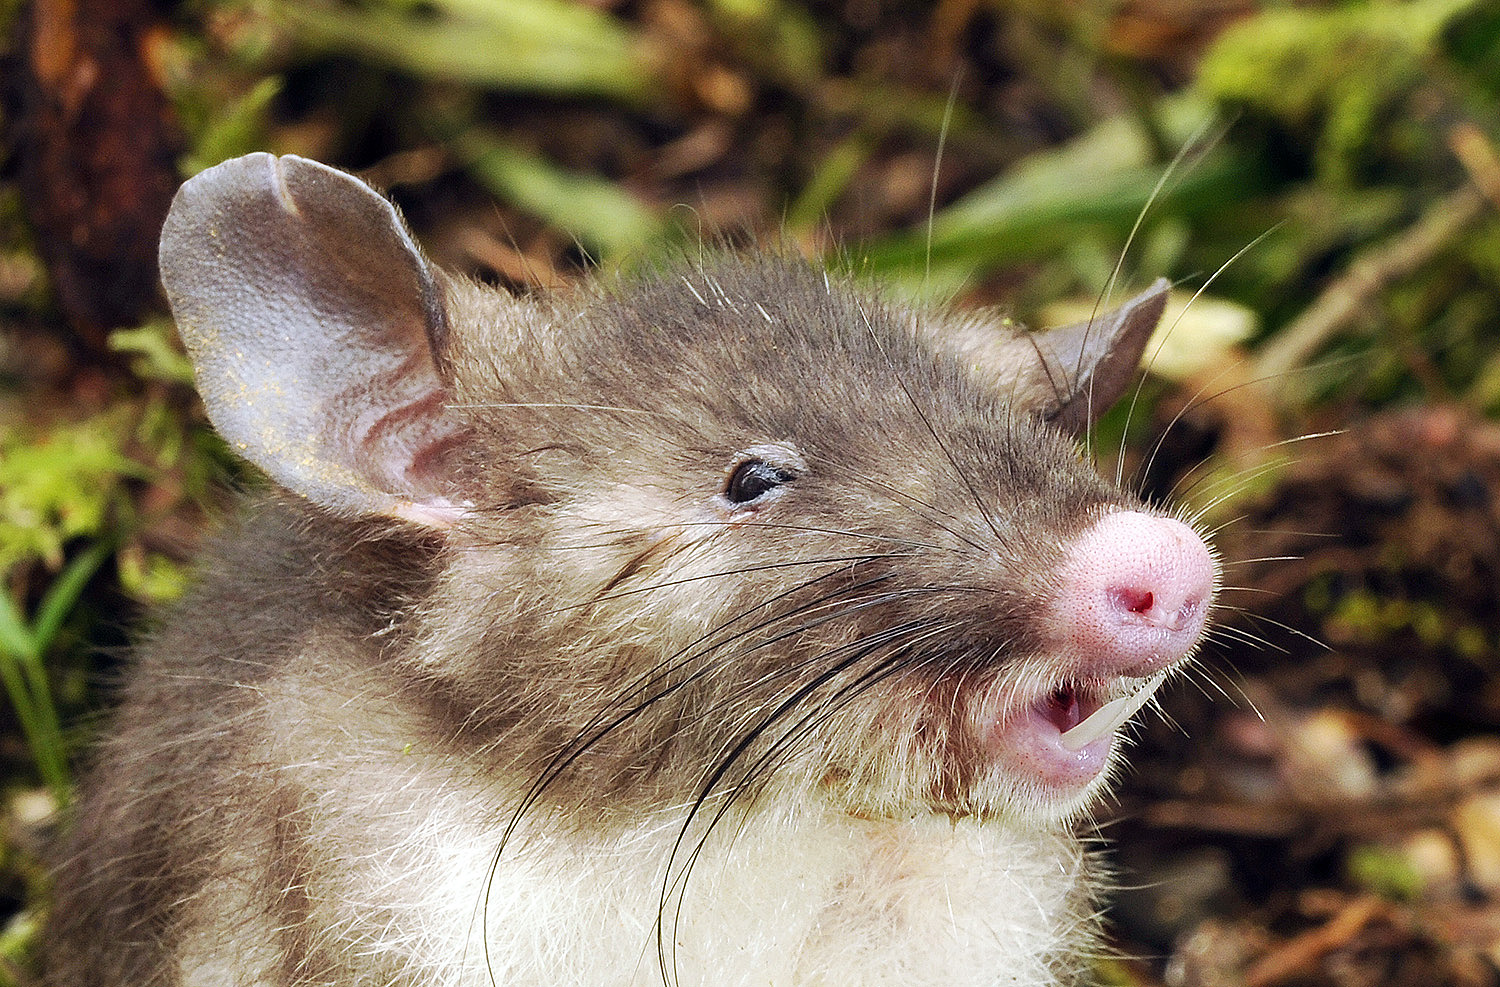Rat: (39, 68, 1345, 987)
